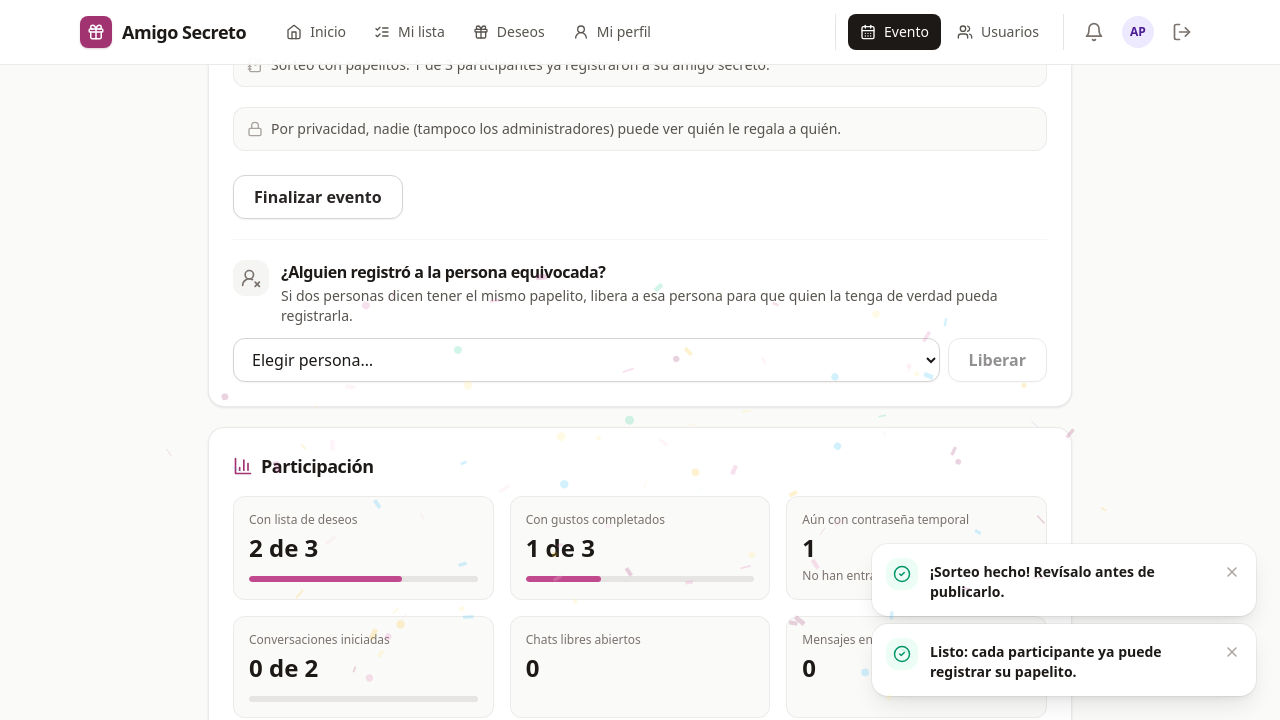
Test: AdminEventPage › con papelitos muestra el progreso y permite liberar a una persona
(page scrolled)
Expected: the text "1 de 3 participantes ya registraron a su amigo secreto" is shown, [233,43,1047,87]
Select "Luis" in the dropdown named "Persona a liberar". click: (586, 360)
box: [233,338,940,382]
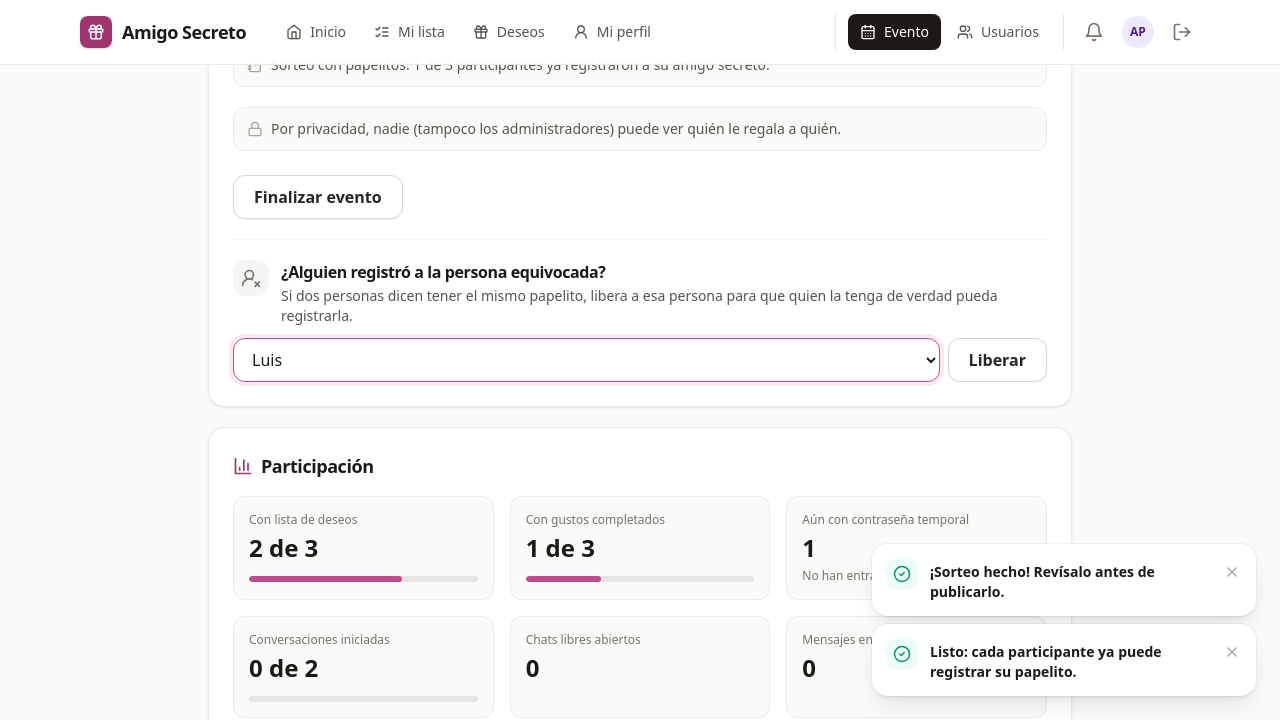
Click the button "Liberar". click: (997, 360)
box: [948,338,1047,382]
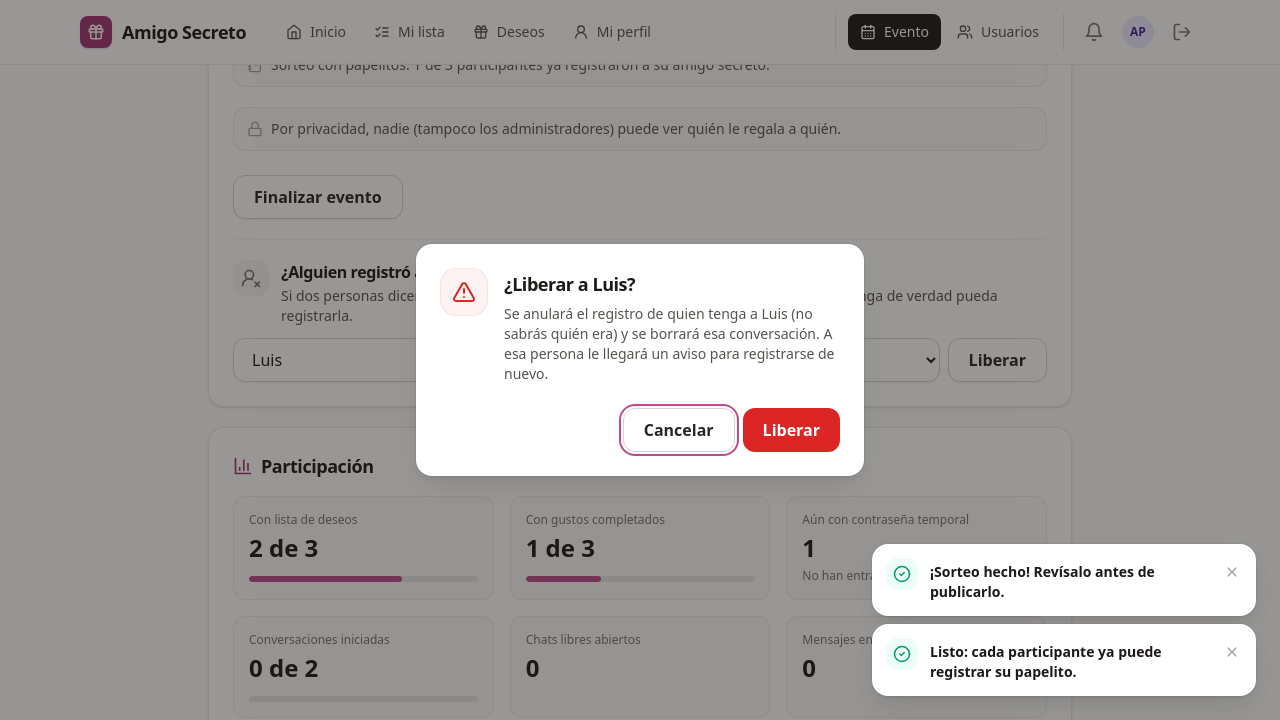
Click the button "Liberar". click: (791, 430)
box: [743,408,840,452]
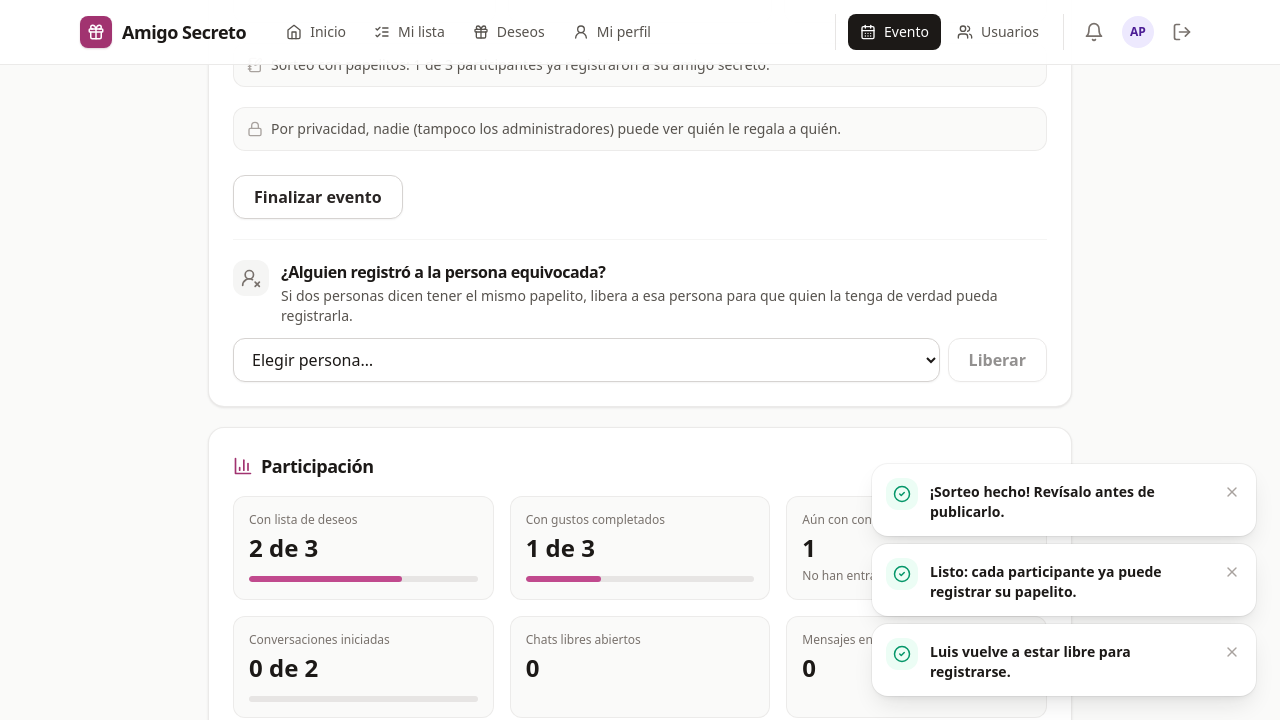
Expected: the text "Luis vuelve a estar libre para registrarse." is shown, [930,642,1131,681]
